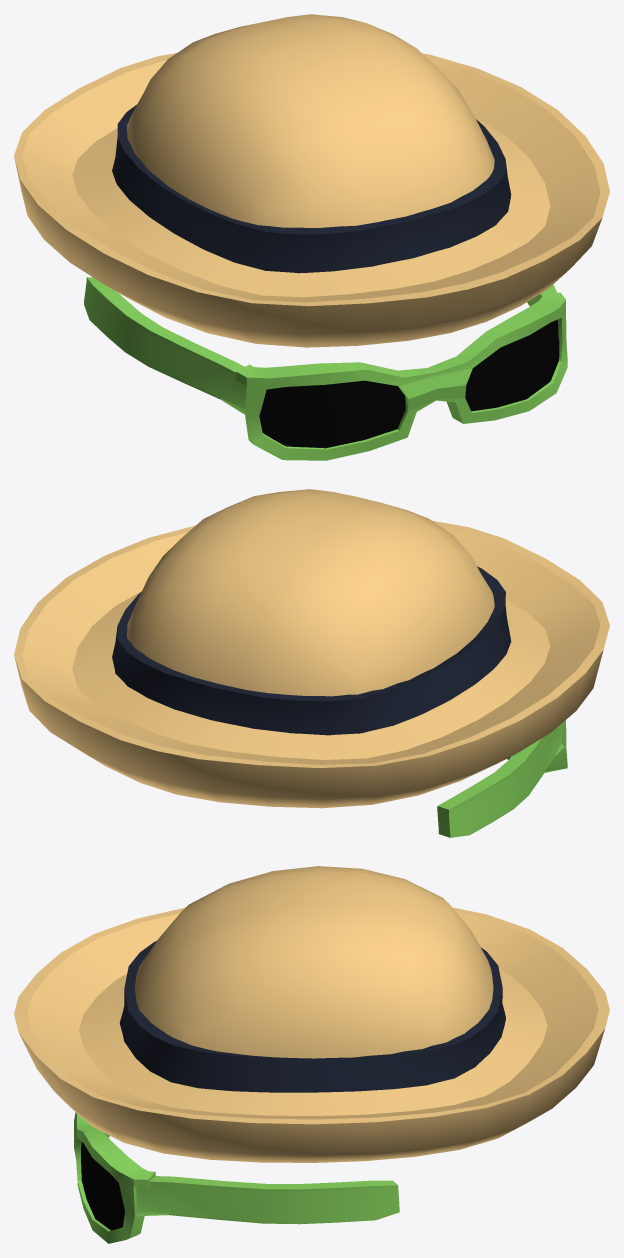
The model's file is 17夏日帽.fbx.
3 renders of one model, top to bottom at view 1: azimuth 30°, elevation 25°; view 2: azimuth 150°, elevation 25°; view 3: azimuth 270°, elevation 25°, orthographic. The views are drawn at different scales.
Visible parts, largest first — view 1: 17夏日帽; view 2: 17夏日帽; view 3: 17夏日帽.
Boxes of the visible parts, box(x1,y1,x2,y2) form: 17夏日帽: box(14, 14, 609, 460); 17夏日帽: box(14, 489, 609, 837); 17夏日帽: box(14, 866, 609, 1243).
Bounding box in the file's own units: 0.5103 × 0.3024 × 0.5611.
